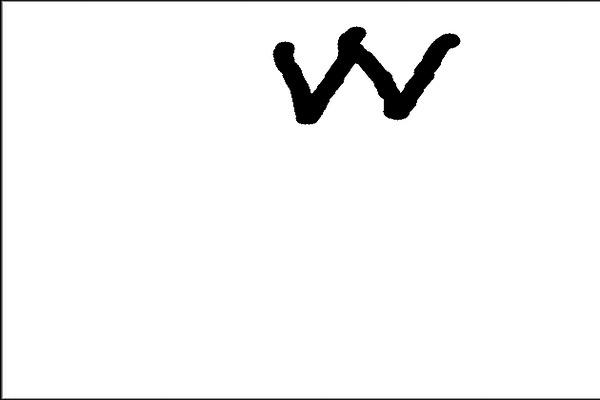w: (259, 17, 469, 139)
